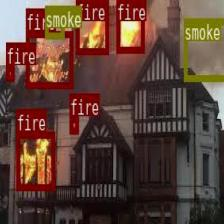fire: (26, 31, 72, 87), (16, 132, 54, 188), (75, 0, 108, 54), (116, 0, 144, 52), (69, 115, 78, 133), (6, 65, 14, 80)
smoke: (183, 18, 224, 80), (44, 5, 64, 38)
